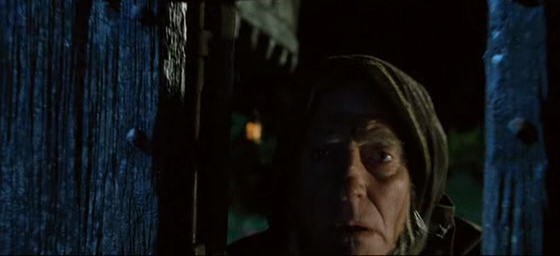cu: (1, 1, 560, 256)
face: (300, 117, 408, 256)
person: (228, 51, 483, 256)
